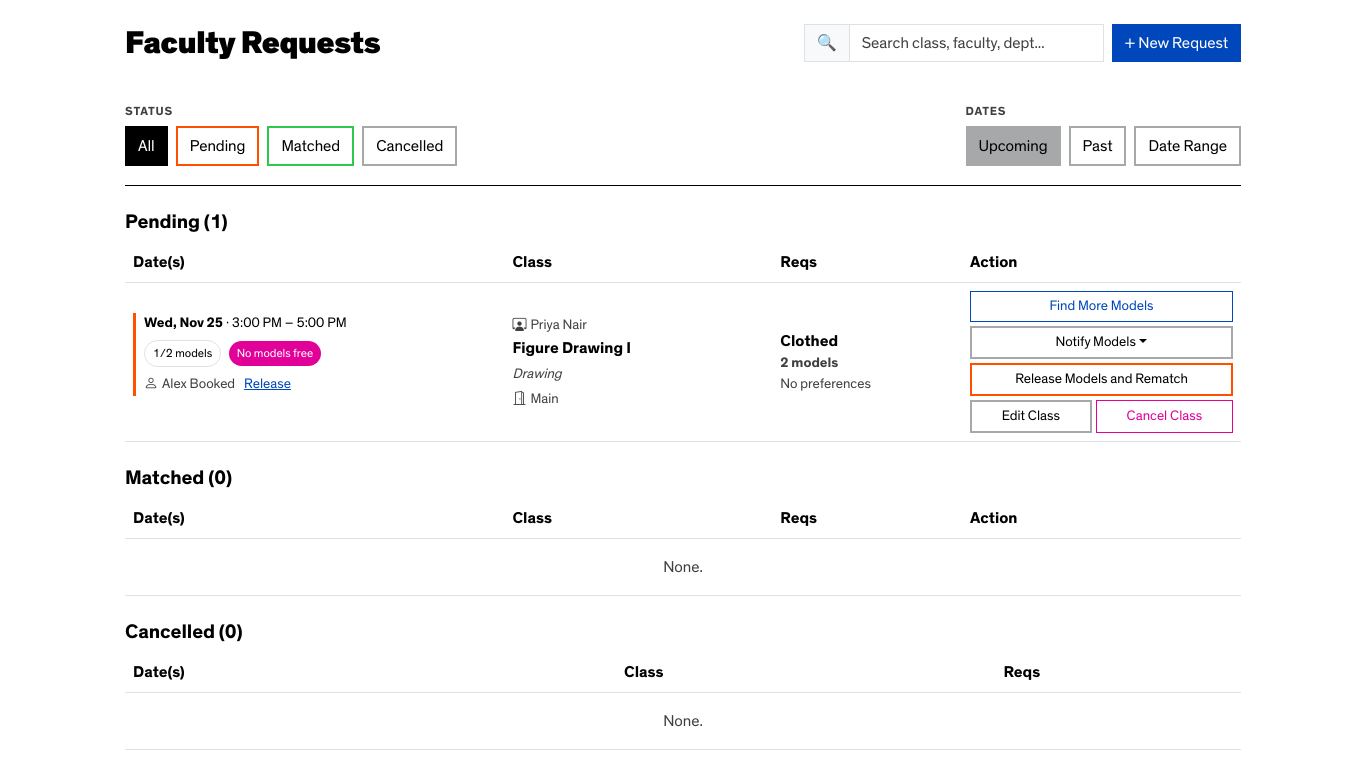
Test: AllRequests (admin requests page) › explains why a model couldn't be released
Click the button with aria-label "Release Alex Booked" at {"x": 268, "y": 385}, box [243,373,292,396]
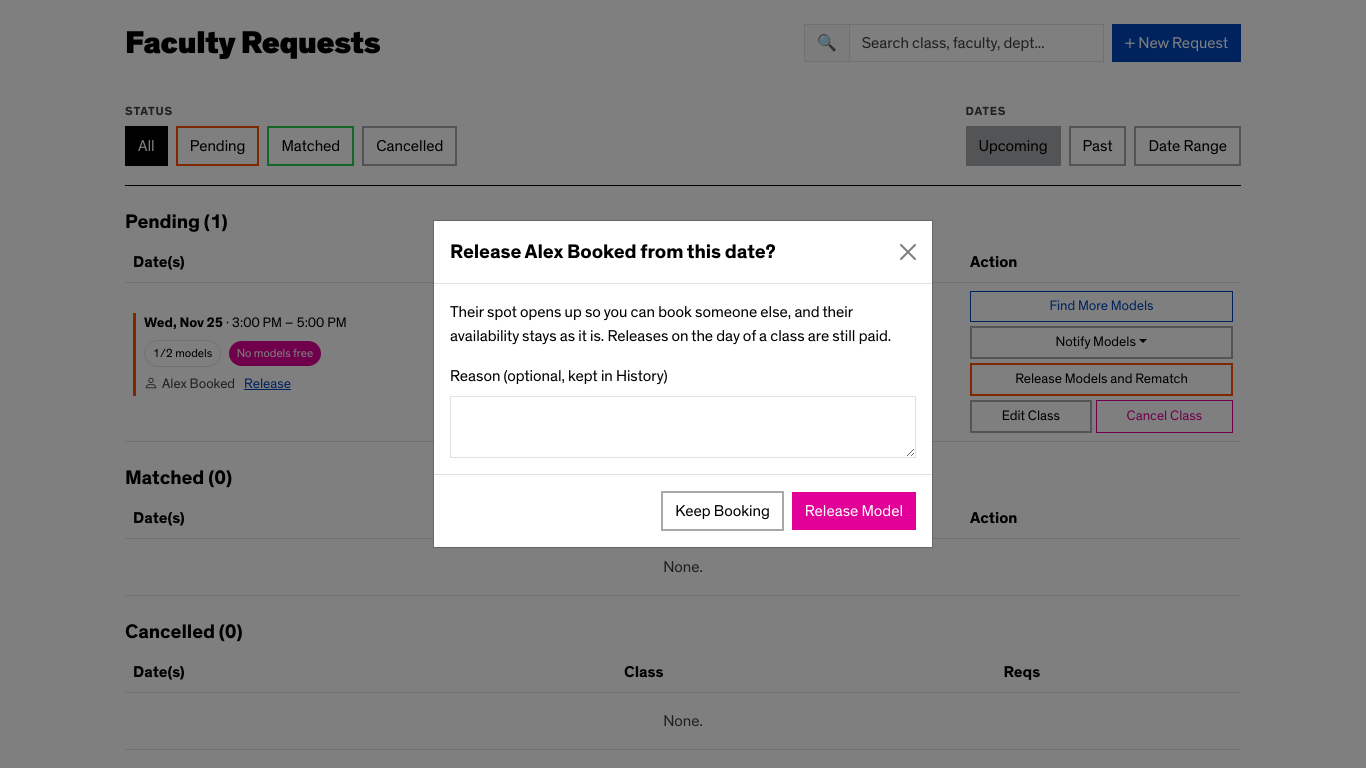
Click the button "Release Model" at {"x": 854, "y": 511}, box [792,492,916,530]
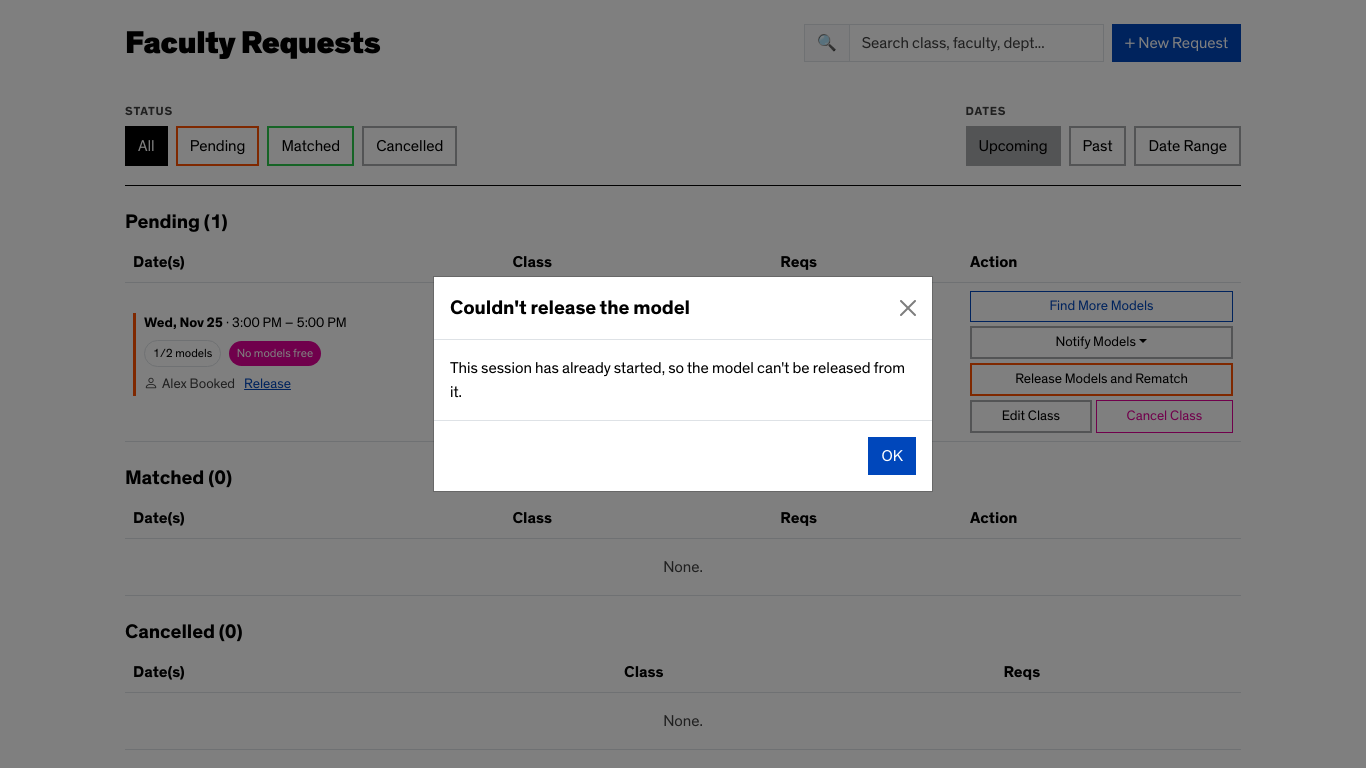
Now the dialog "Couldn't release the model" shows "already started", box [450,360,905,400]
